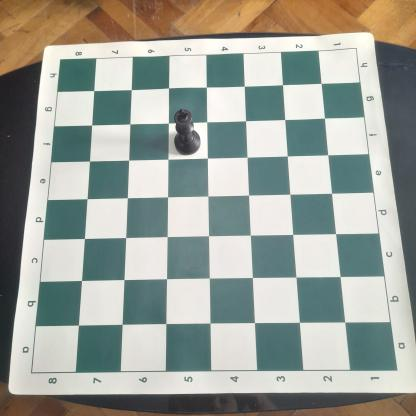black-king: (173, 108, 201, 156)
